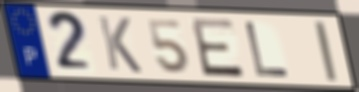2: (45, 9, 101, 78)
5: (145, 18, 192, 75)
E: (188, 17, 247, 79)
I: (310, 19, 340, 83)
K: (95, 13, 145, 75)
L: (242, 20, 293, 79)
